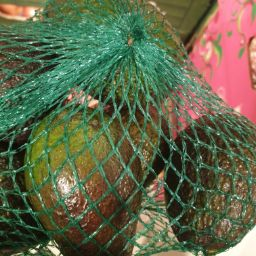Avocado: (29, 103, 144, 249), (168, 101, 256, 248), (54, 4, 186, 94)
